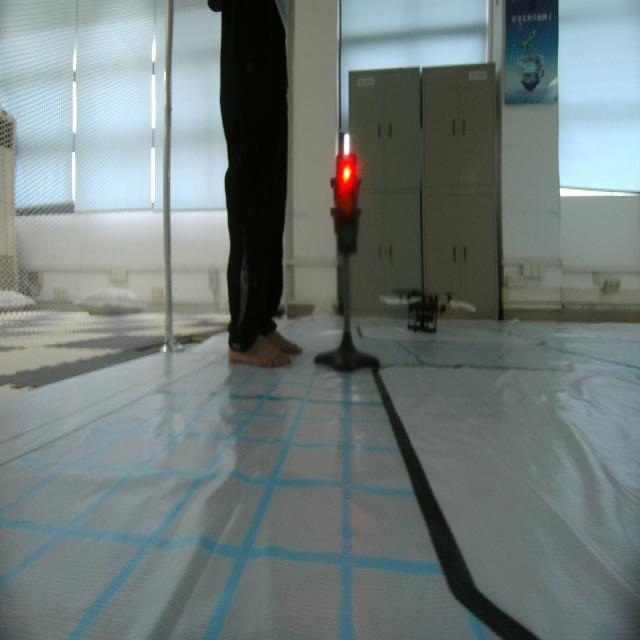red: (331, 152, 361, 259)
